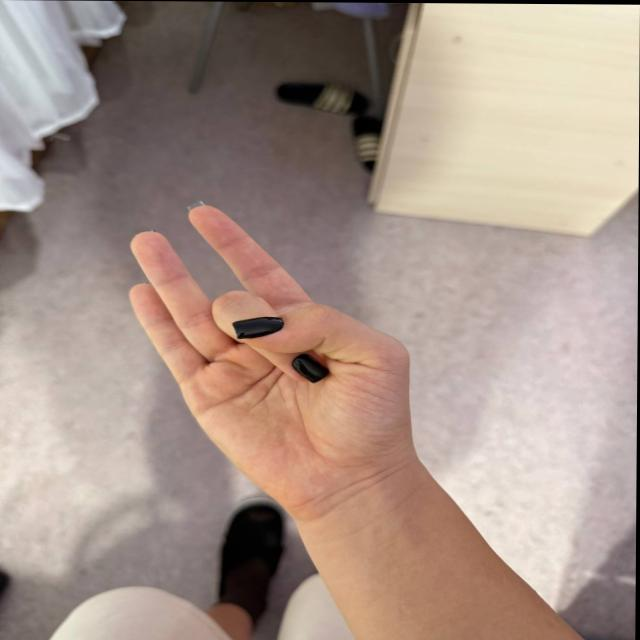r: (100, 183, 443, 493)
